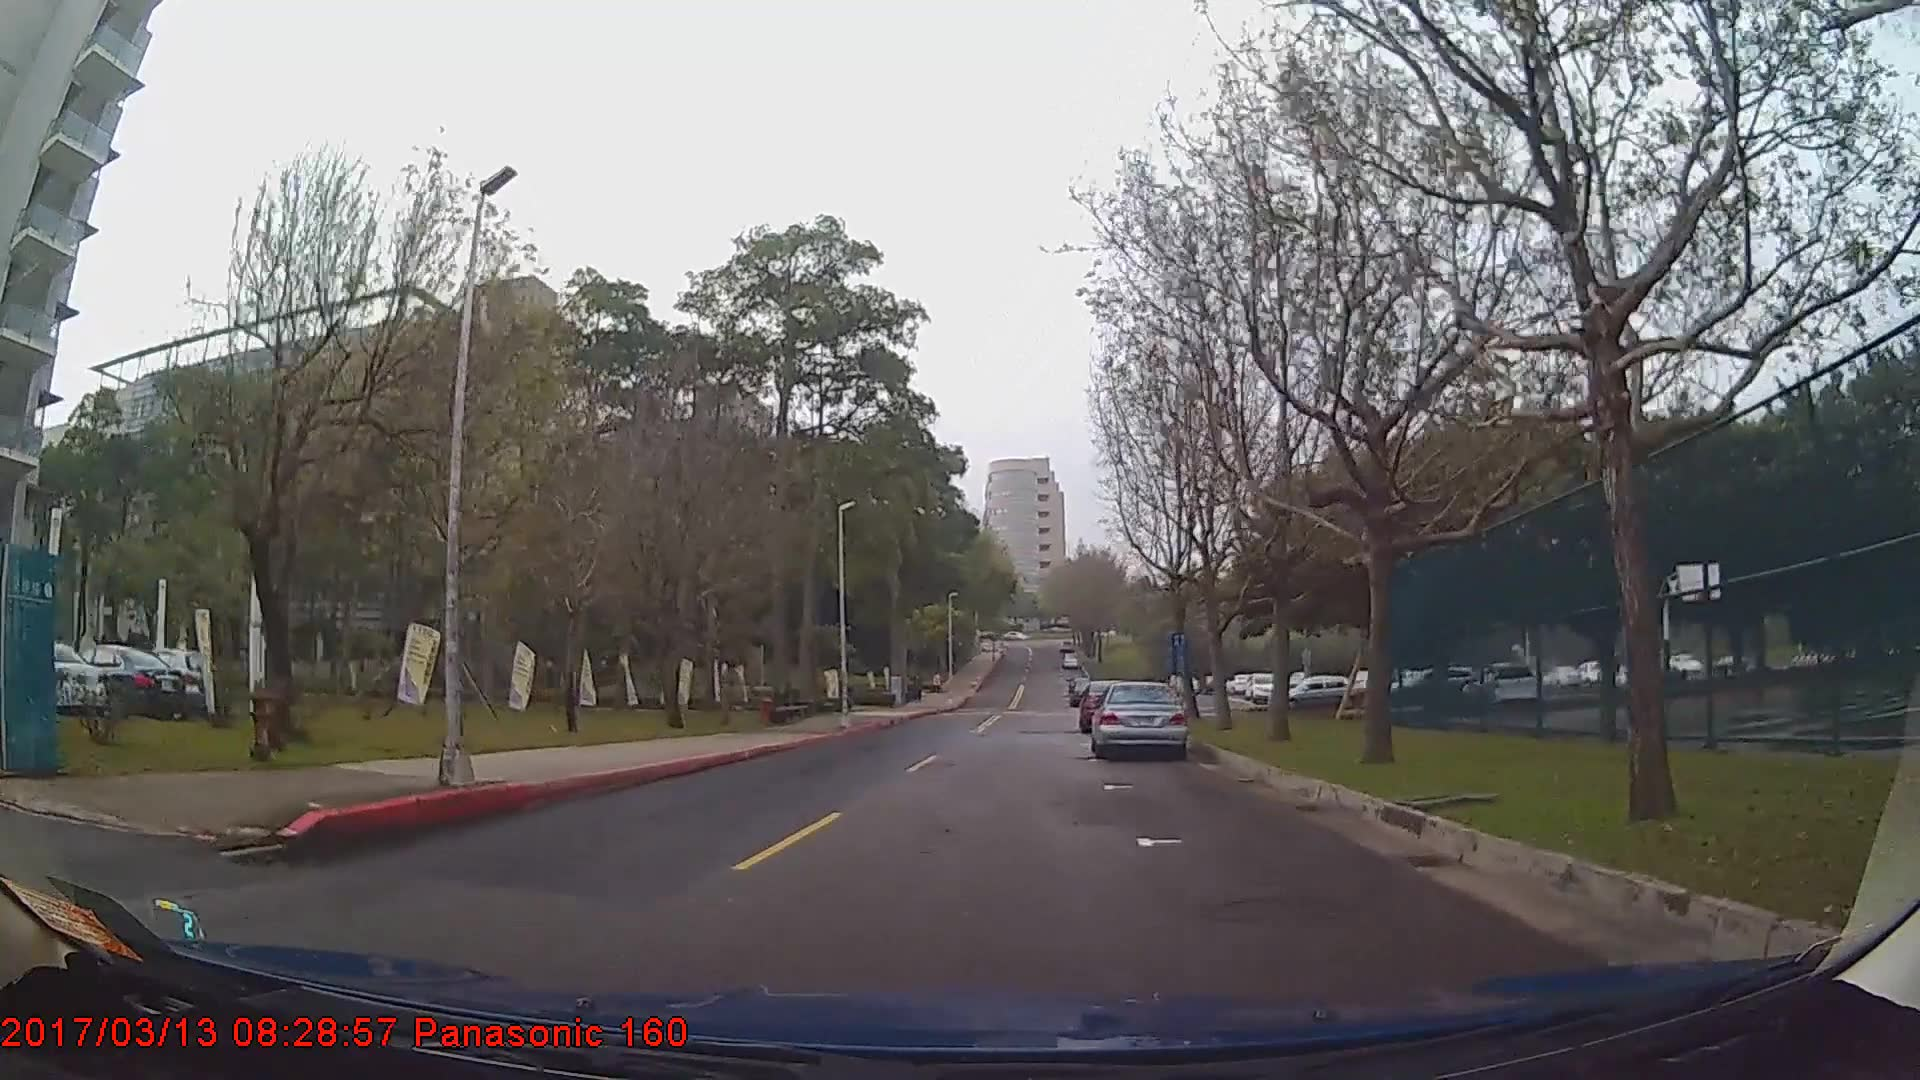vehicle: (62, 642, 183, 721), (1089, 680, 1189, 758), (123, 645, 220, 712), (1267, 673, 1364, 711)
